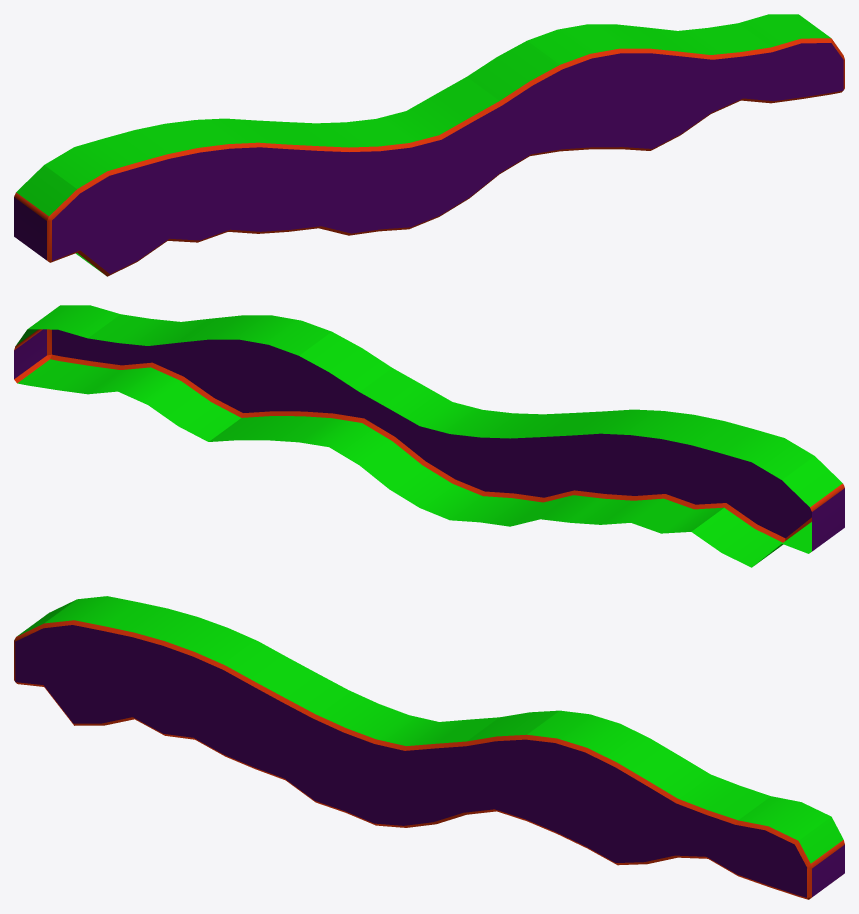
File: Floating Piece 1.fbx
The picture shows the model from 3 angles, top to bottom: view 1: azimuth 30°, elevation 25°; view 2: azimuth 150°, elevation 25°; view 3: azimuth 330°, elevation 25°; orthographic projection.
Visible parts, largest first — view 1: Floating_piece_1; view 2: Floating_piece_1; view 3: Floating_piece_1.
Boxes of the visible parts, x1=… form: Floating_piece_1: x1=14, y1=14, x2=844, y2=276; Floating_piece_1: x1=14, y1=305, x2=844, y2=567; Floating_piece_1: x1=14, y1=596, x2=844, y2=899.
Bounding box in the file's own units: 26.44 × 4.24 × 2.
